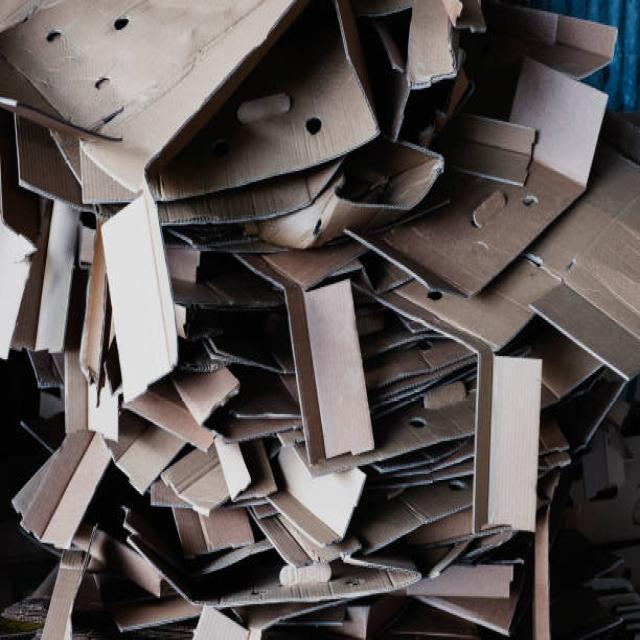electronic: (145, 3, 381, 202), (99, 190, 179, 403), (304, 276, 374, 463), (485, 353, 543, 533), (276, 442, 366, 544), (404, 0, 462, 89)
